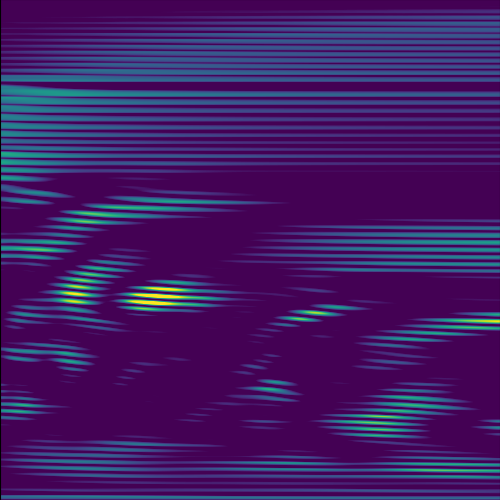semblance: (119, 276, 222, 319)
